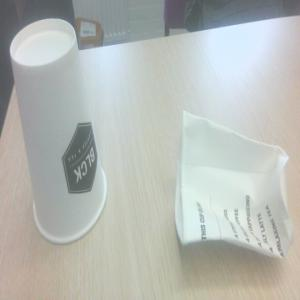Cup: (11, 16, 110, 247), (175, 109, 292, 262)
